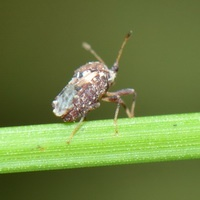insect: (52, 31, 135, 143)
